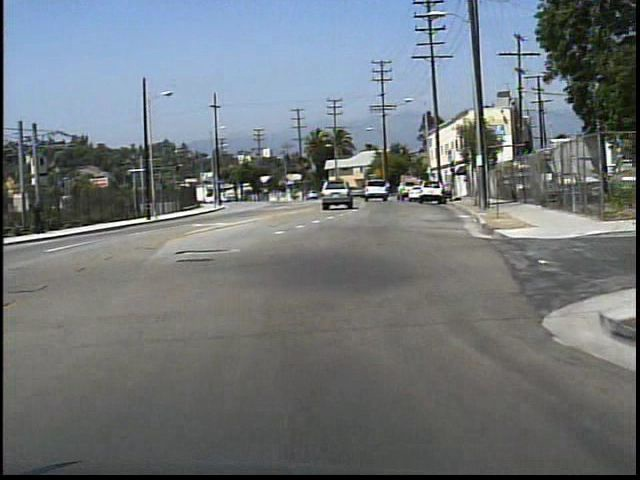person: (33, 200, 50, 237)
